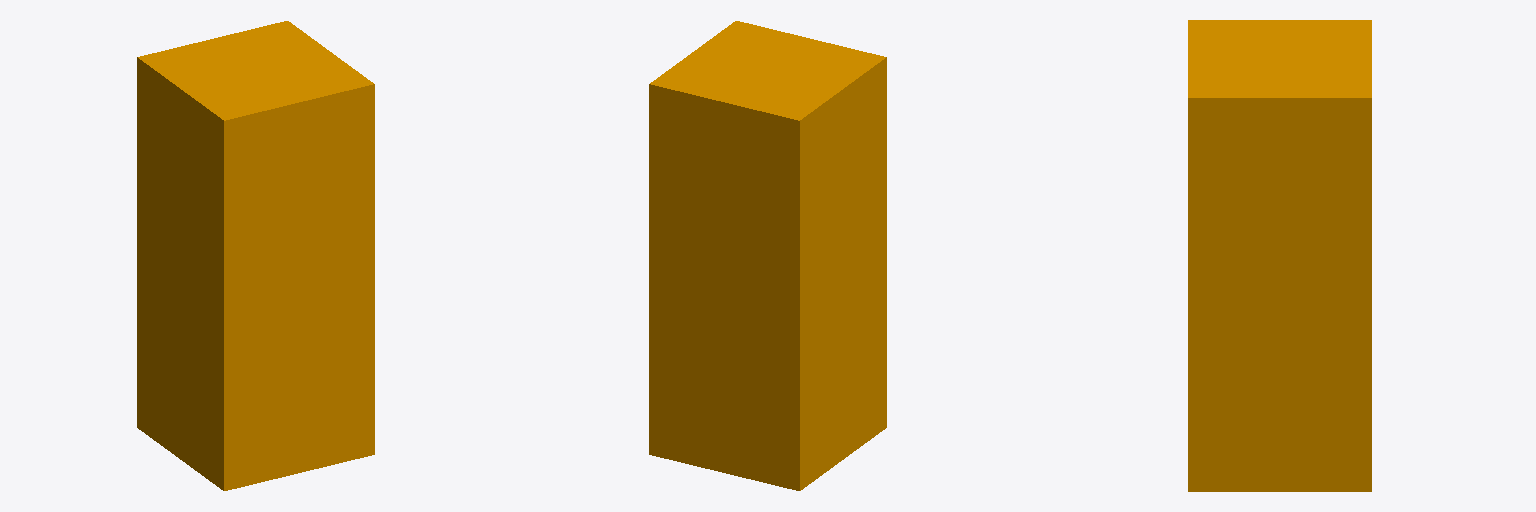
The robot description file, URDF, robot "simple_box":
<robot name="simple_box">
  <link name="my_box">
    <inertial>
      <mass value="1.5" />
      <!-- center of mass (com) is defined w.r.t. link local coordinate system -->
      <origin xyz="0 0 0" /> 
      <inertia  ixx="1.0" ixy="0.0"  ixz="0.0"  iyy="1.0"  iyz="0.0"  izz="1.0" />
    </inertial>
    <visual>
      <!-- visual origin is defined w.r.t. link local coordinate system -->
      <origin xyz="0 0 0" rpy="0 0 0" />
      <geometry>
        <box size="0.17 0.17 0.40" />
      </geometry>
    </visual>
    <collision>
      <!-- collision origin is defined w.r.t. link local coordinate system -->
      <origin xyz="0 0 0" rpy="0 0 0 " />
      <geometry>
        <box size="0.17 0.17 0.40" />
      </geometry>
      <friction>
        <ode>
          <mu>0.6</mu>
          <mu2>0.6</mu2>
        </ode>
      </friction>
    </collision>
  </link>
  <gazebo reference="my_box">
    <material>Gazebo/Blue</material>
    <turnGravityOff>false</turnGravityOff>
  </gazebo>
</robot>

--- What the picture shows (computed from the rendered views, not written in the file) ---
3 views of the same robot in one strip: view 1: azimuth 30°, elevation 25°; view 2: azimuth 150°, elevation 25°; view 3: azimuth 270°, elevation 25° (orthographic).
Robot: simple_box — 1 links, 0 joints (none); root link my_box; default pose: all joints at 0.
Links seen in each view (by area): view 1: my_box; view 2: my_box; view 3: my_box.
Boxes of the visible links, box(x1,y1,x2,y2) form: my_box: box(137, 21, 374, 490); my_box: box(649, 21, 886, 490); my_box: box(1188, 20, 1371, 491).
Size in the robot's own frame: 0.17 by 0.17 by 0.4 metres.
Geometry: primitives only (box / cylinder / sphere), no mesh files.